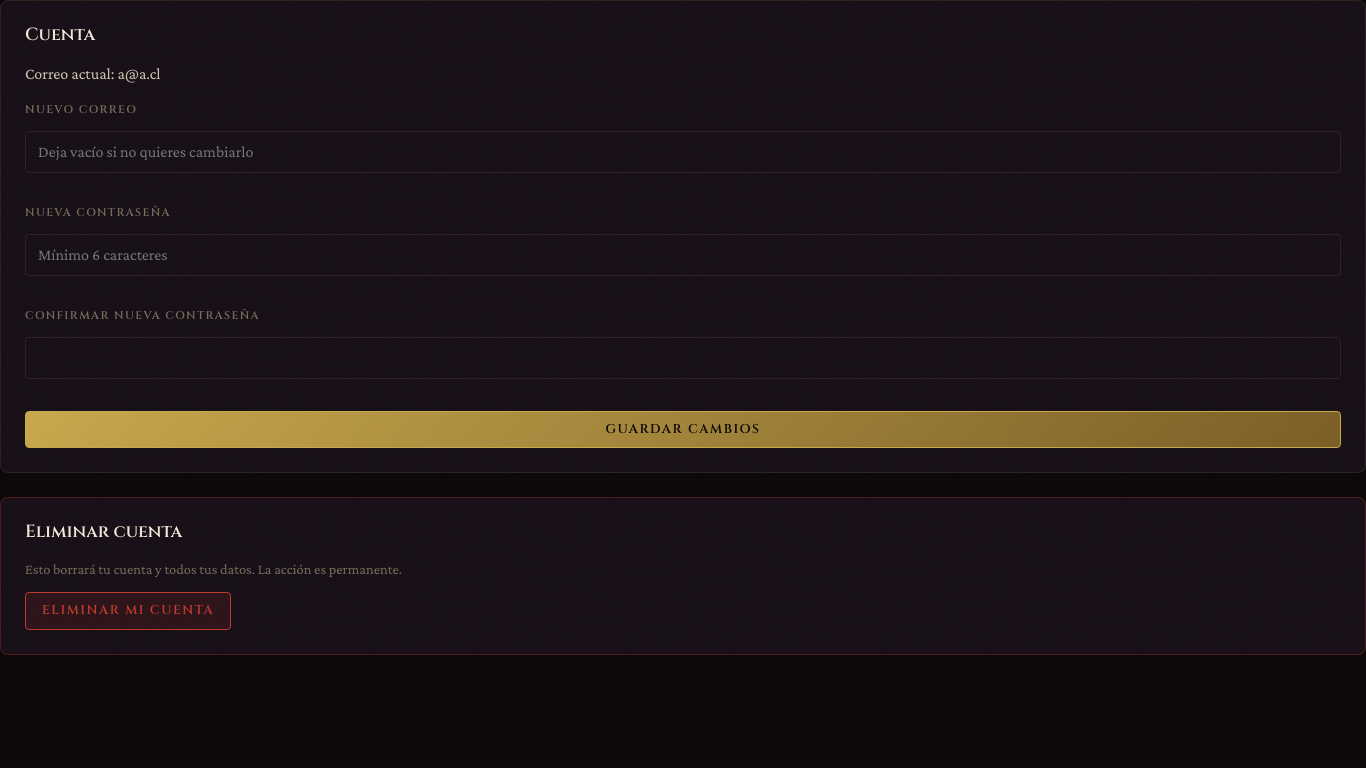
Test: CuentaTab › valida que las contraseñas coincidan
The image size is (1366, 768).
Type "abcdef" into the password field labelled "Nueva contraseña" at coordinates (683, 255), box [25,234,1341,276]
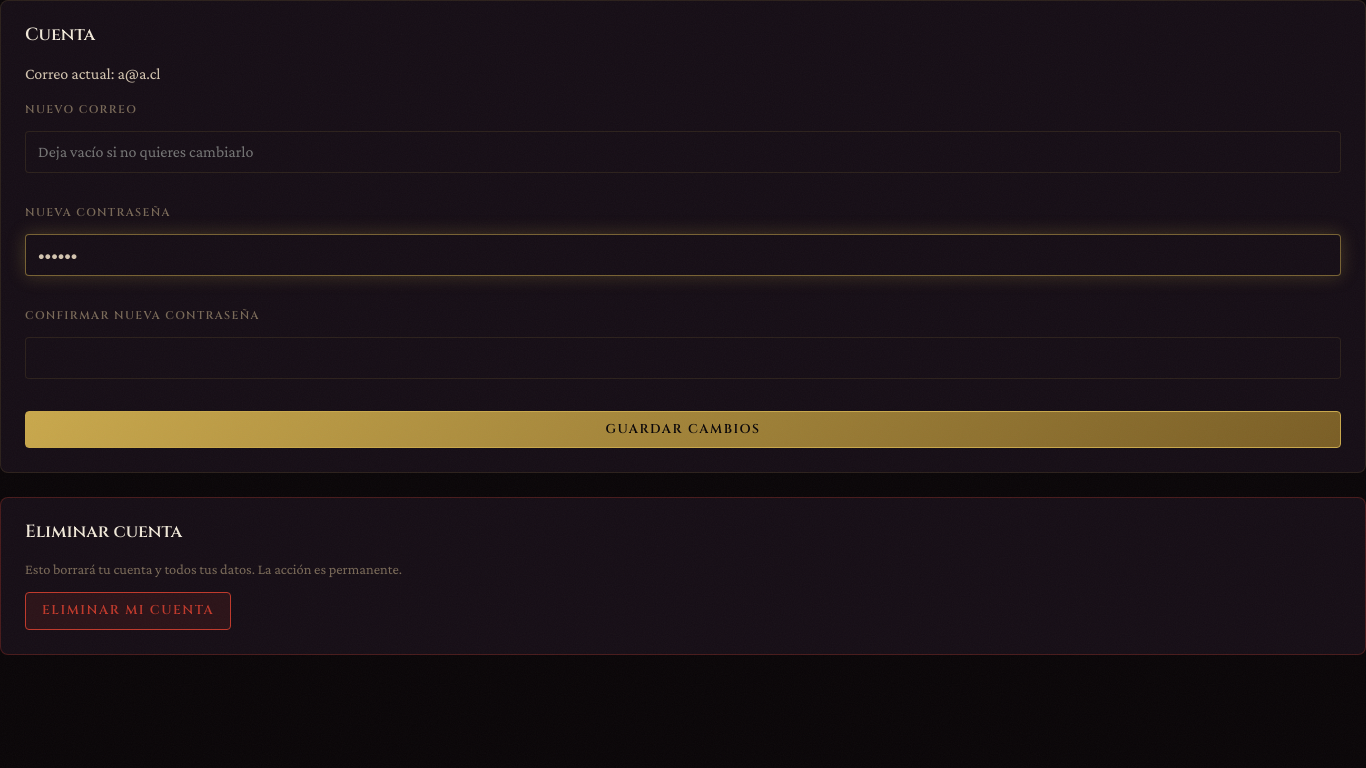
Type "xxxxxx" into the password field labelled "Confirmar nueva contraseña" at coordinates (683, 358), box [25,336,1341,378]
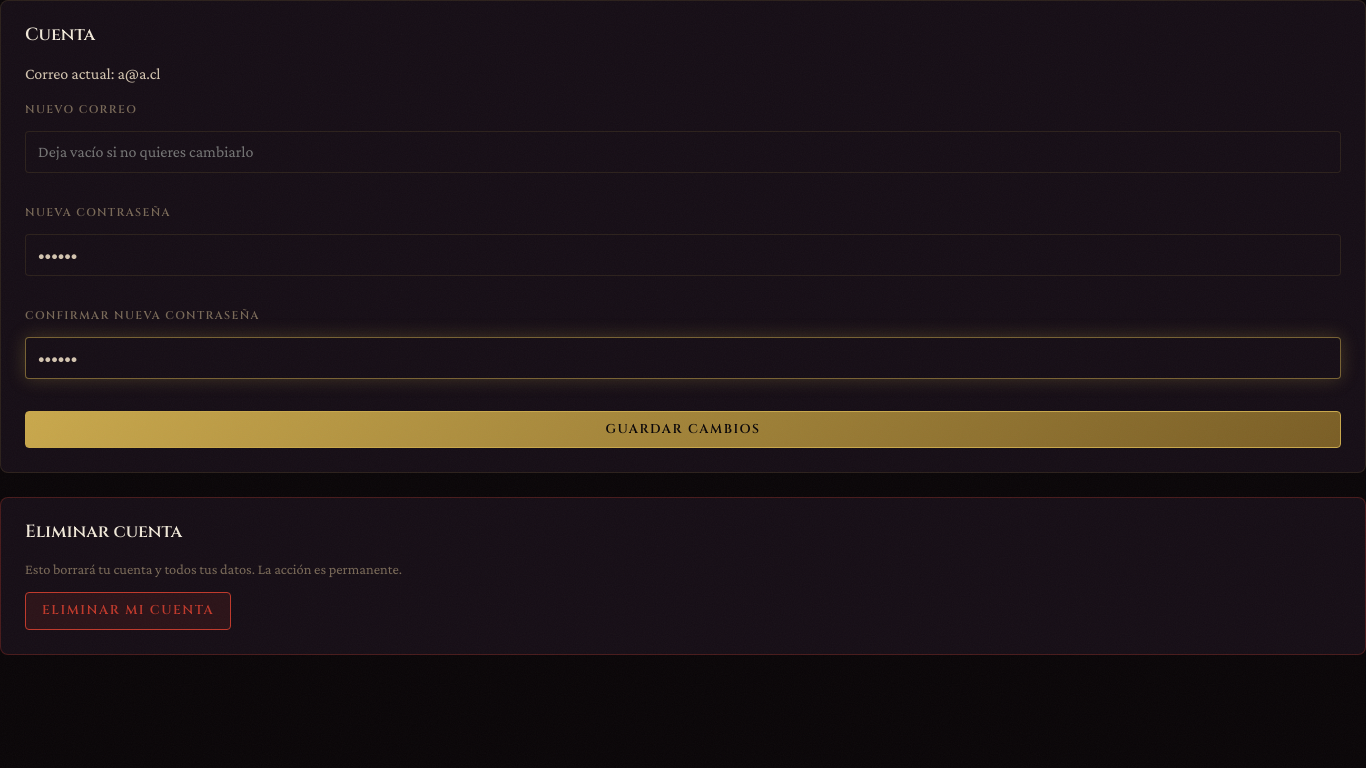
Click the button "Guardar cambios" at coordinates (683, 429), box [25,410,1341,448]
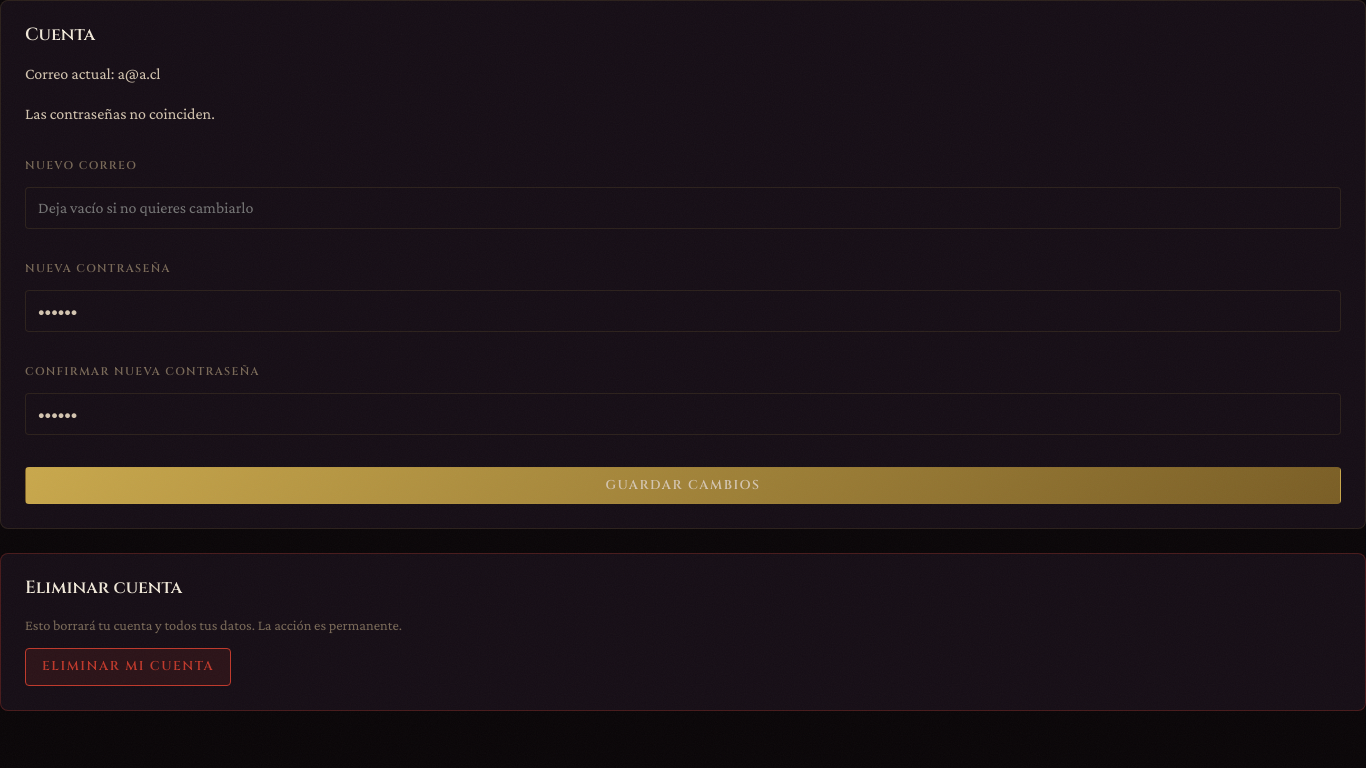
Now the text "Las contraseñas no coinciden." is shown, box [25,105,215,122]
